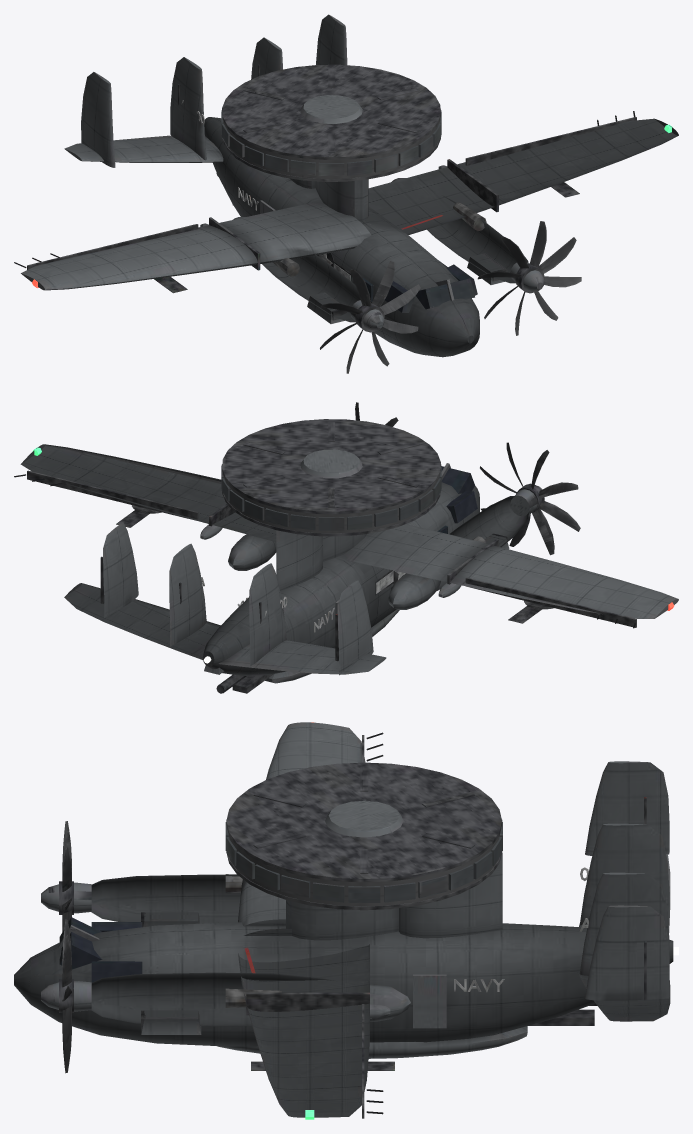
Rendered from aircraft_e2d.glb.
3 renders of one model, top to bottom at view 1: azimuth 30°, elevation 25°; view 2: azimuth 150°, elevation 25°; view 3: azimuth 270°, elevation 25°, orthographic. The views are drawn at different scales.
Parts seen in each view (by area): view 1: e2d_body, rotodome, e2d_detail, prop_1, prop_2; view 2: e2d_body, rotodome, e2d_detail, prop_1; view 3: e2d_body, rotodome, e2d_detail, prop_2, prop_1.
Boxes of the visible parts, left/top/right/bottom form: e2d_body: left=21, top=14, right=678, bottom=357; rotodome: left=221, top=64, right=441, bottom=181; e2d_detail: left=14, top=64, right=672, bottom=320; prop_1: left=320, top=261, right=420, bottom=373; prop_2: left=477, top=221, right=581, bottom=335; e2d_body: left=20, top=444, right=678, bottom=683; rotodome: left=221, top=419, right=441, bottom=536; e2d_detail: left=14, top=447, right=674, bottom=693; prop_1: left=480, top=442, right=580, bottom=555; e2d_body: left=14, top=722, right=673, bottom=1117; rotodome: left=225, top=762, right=502, bottom=910; e2d_detail: left=141, top=722, right=678, bottom=1119; prop_2: left=41, top=919, right=91, bottom=1073; prop_1: left=41, top=821, right=91, bottom=931.
Bounding box in the file's own units: 24.76 × 6.93 × 17.75.
Materials: 12 (12 with a texture image).
